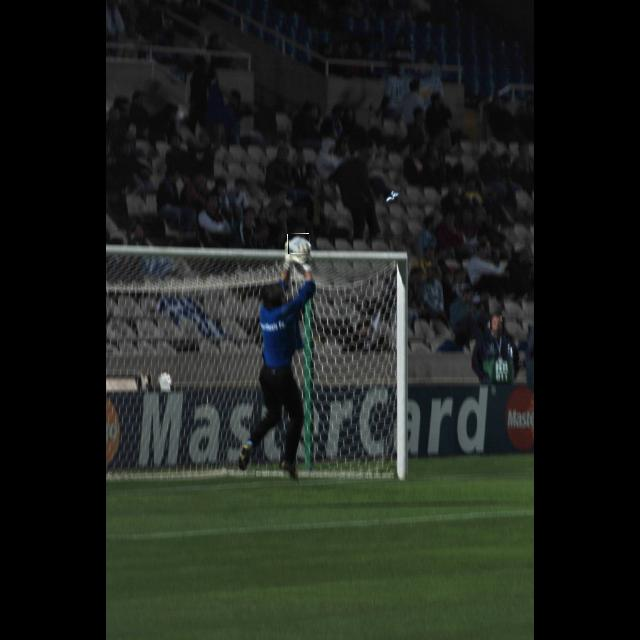Football: (288, 234, 310, 254)
